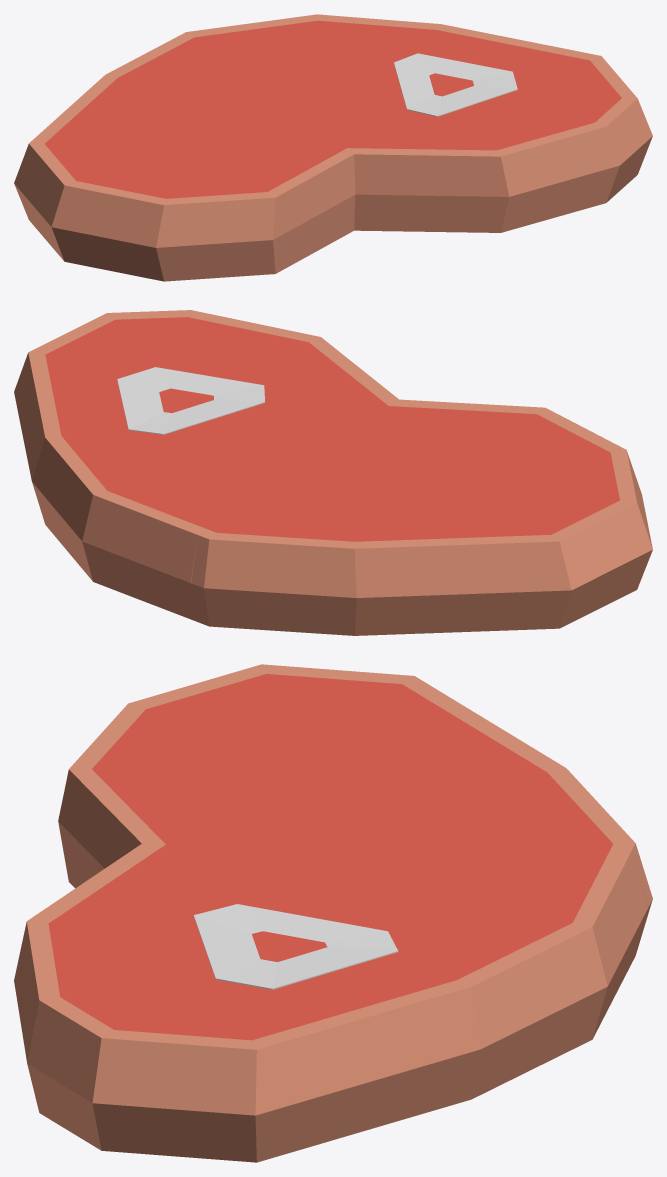
The model's file is Meat.fbx.
3 renders of one model, top to bottom at view 1: azimuth 30°, elevation 25°; view 2: azimuth 150°, elevation 25°; view 3: azimuth 270°, elevation 25°, orthographic. The views are drawn at different scales.
Visible parts, largest first — view 1: Куб.002, Куб.001; view 2: Куб.002, Куб.001; view 3: Куб.001, Куб.002.
Boxes of the visible parts, x1,y1,x2,y2 form: Куб.002: (14, 30, 371, 281); Куб.001: (200, 14, 652, 232); Куб.002: (190, 393, 652, 635); Куб.001: (14, 310, 391, 621); Куб.001: (14, 851, 647, 1162); Куб.002: (58, 664, 652, 963).
Bounding box in the file's own units: 770 × 102 × 514.
